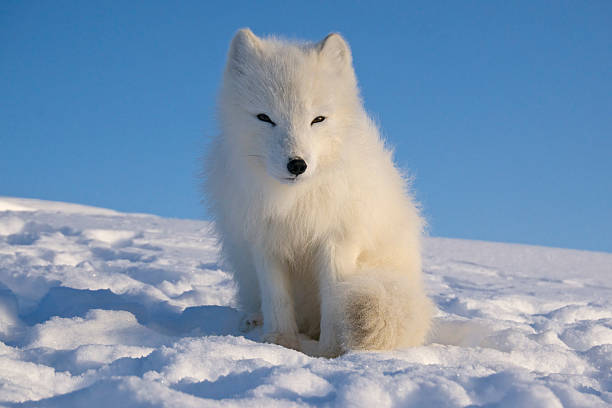arcticfox: (221, 39, 362, 211)
